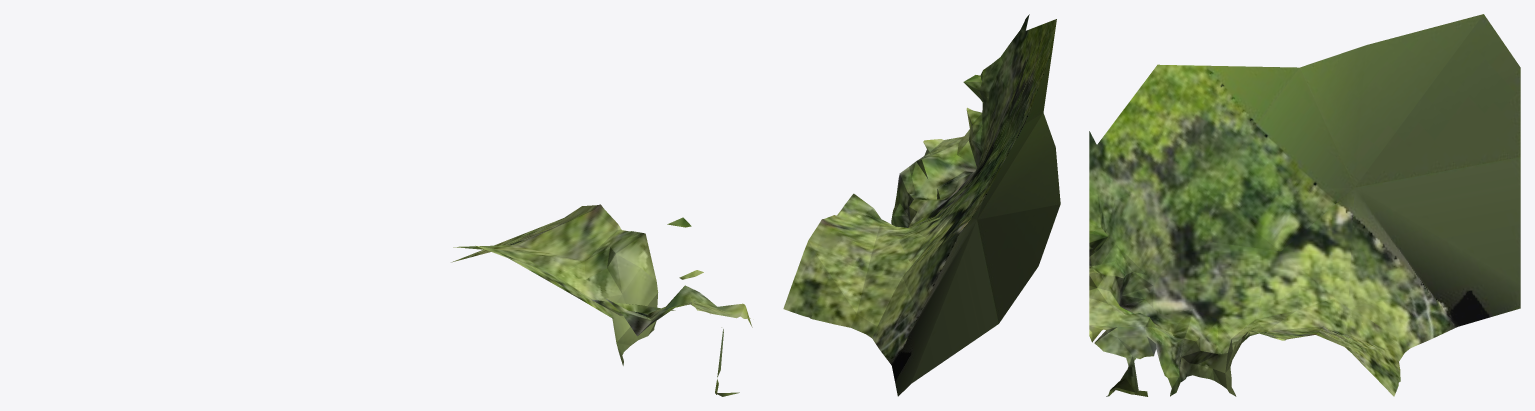
3 renders of one model, left to right at view 1: azimuth 30°, elevation 25°; view 2: azimuth 150°, elevation 25°; view 3: azimuth 270°, elevation 25°, orthographic. The views are drawn at different scales.
Size of the model in its own units: 23.11 by 16.85 by 26.11.
3 materials, 3 textured.
